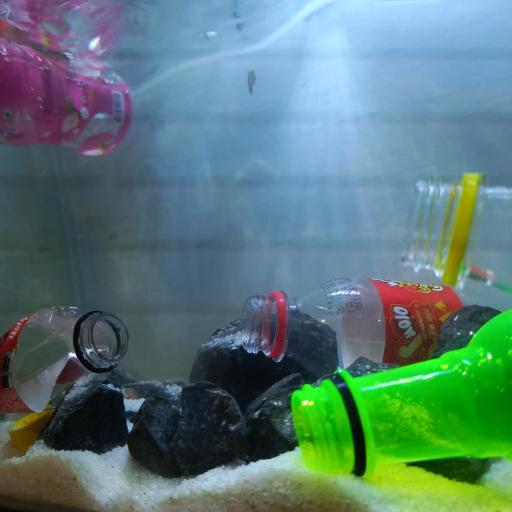bottle_cap: (8, 402, 60, 460)
plastic_bottle: (287, 307, 512, 480), (240, 275, 512, 394), (0, 35, 137, 159), (0, 302, 130, 419), (398, 171, 512, 297)
